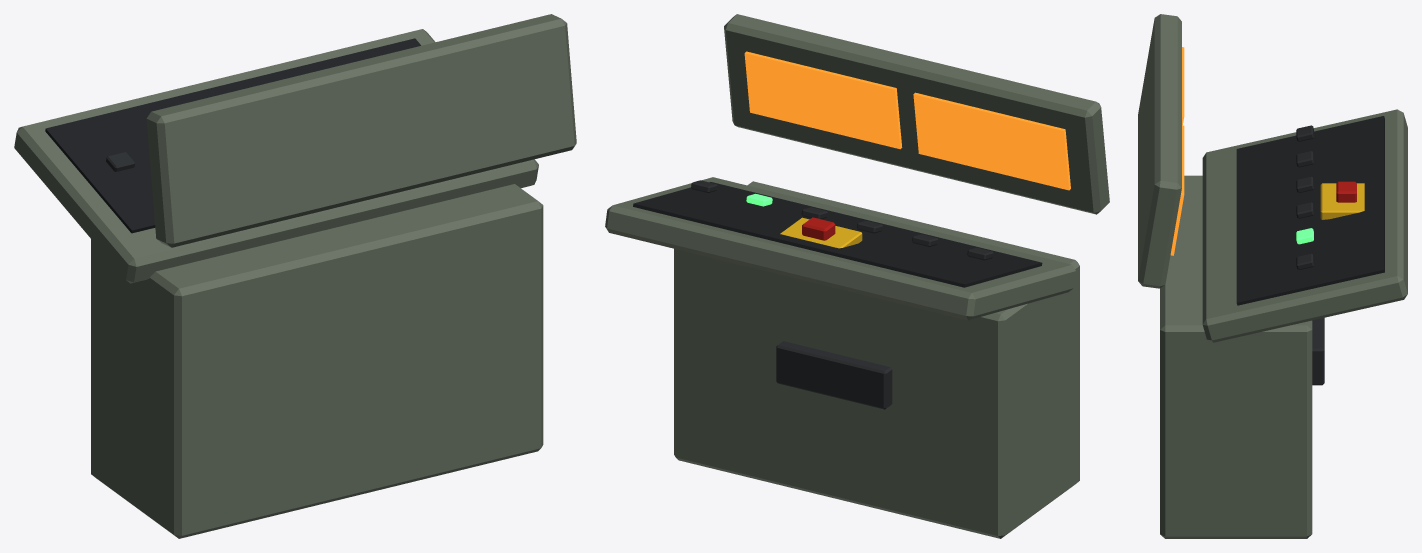
Rendered from fire_control.glb.
3 views of the same model, side by side, from view 1: azimuth 30°, elevation 25°; view 2: azimuth 150°, elevation 25°; view 3: azimuth 270°, elevation 25° (orthographic). The views are drawn at different scales.
Parts seen in each view (by area): view 1: fire_control; view 2: fire_control; view 3: fire_control.
Part boxes in pixels (box(x1,y1,x2,y2)): fire_control: box(14, 14, 576, 538); fire_control: box(605, 14, 1109, 538); fire_control: box(1138, 14, 1407, 538).
Size of the model in its own units: 1.2 by 1.2 by 0.8.
